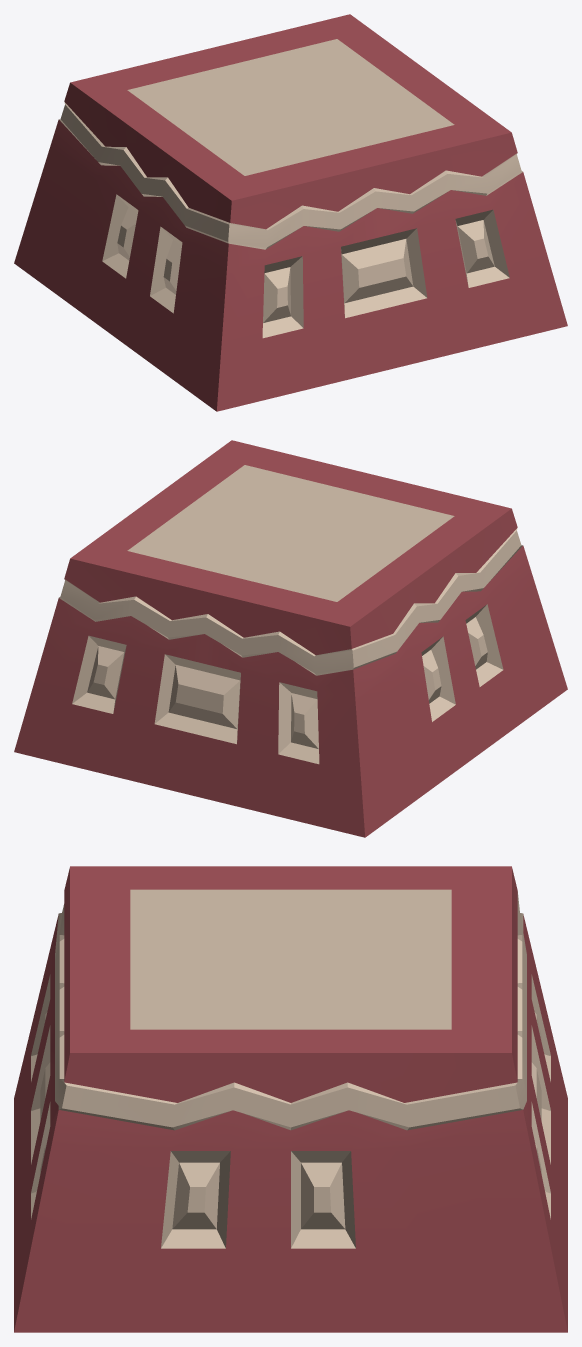
File: russie_base.fbx
3 renders of one model, top to bottom at view 1: azimuth 30°, elevation 25°; view 2: azimuth 150°, elevation 25°; view 3: azimuth 270°, elevation 25°, orthographic. The views are drawn at different scales.
Visible parts, largest first — view 1: pCube1; view 2: pCube1; view 3: pCube1.
Boxes of the visible parts, box(x1,y1,x2,y2) form: pCube1: box(14, 14, 567, 411); pCube1: box(14, 440, 567, 837); pCube1: box(14, 866, 567, 1332).
Bounding box in the file's own units: 5.75 × 2.93 × 5.75.
